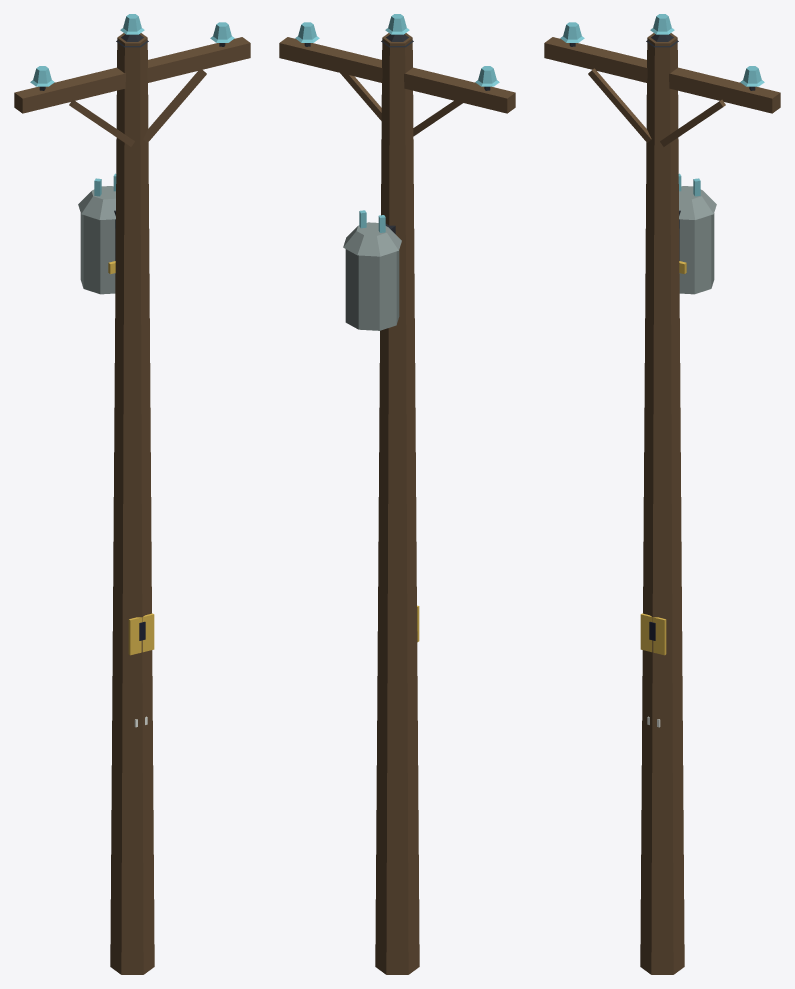
Rendered from sm_env_route_power_pole.glb.
3 views of the same model, side by side, from view 1: azimuth 30°, elevation 25°; view 2: azimuth 150°, elevation 25°; view 3: azimuth 330°, elevation 25° (orthographic).
Visible parts, largest first — view 1: PowerPole, Transformer; view 2: PowerPole, Transformer; view 3: PowerPole, Transformer.
Boxes of the visible parts, box(x1,y1,x2,y2) form: PowerPole: box(14, 14, 250, 974); Transformer: box(78, 173, 116, 294); PowerPole: box(279, 14, 515, 974); Transformer: box(343, 210, 401, 330); PowerPole: box(544, 14, 780, 974); Transformer: box(678, 173, 716, 294).
Size of the model in its own units: 1.9 by 7.57 by 0.74.
